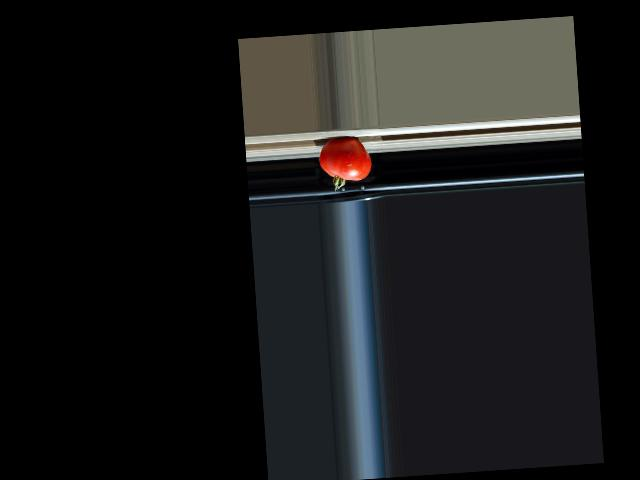tomato: (318, 136, 372, 192)
